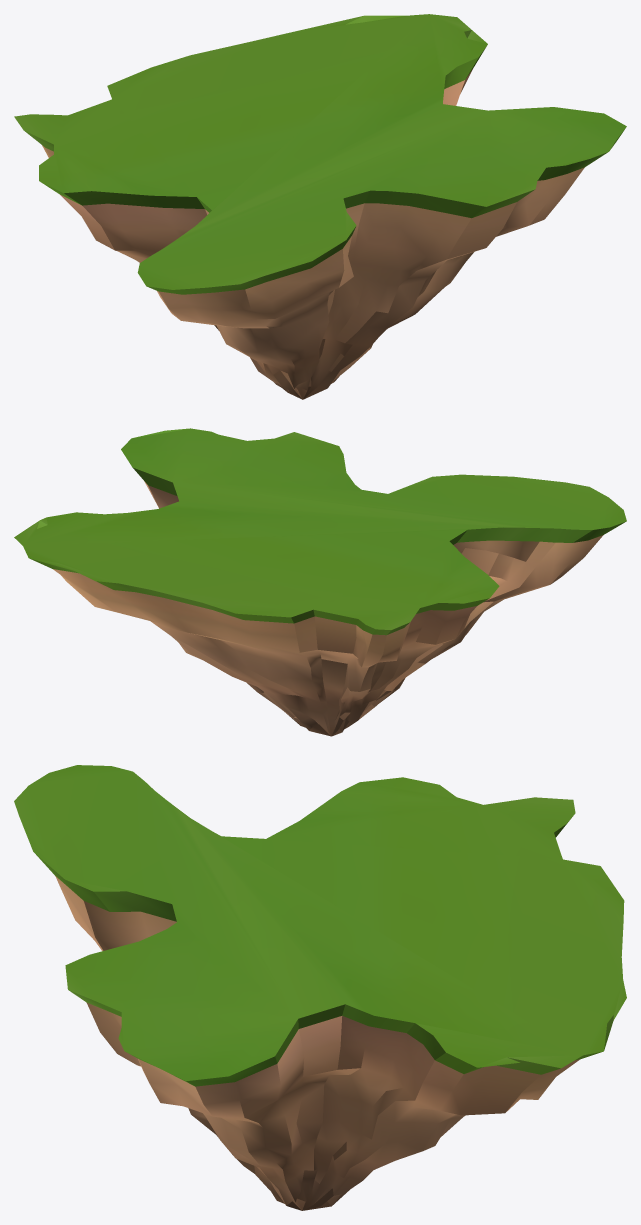
Rendered from asset.glb.
3 renders of one model, top to bottom at view 1: azimuth 30°, elevation 25°; view 2: azimuth 150°, elevation 25°; view 3: azimuth 270°, elevation 25°, orthographic. The views are drawn at different scales.
Visible parts, largest first — view 1: Vert.001, Vert; view 2: Vert.001, Vert; view 3: Vert.001, Vert.
Boxes of the visible parts, x1,y1,x2,y2 form: Vert.001: (14,14,626,294); Vert: (42,69,584,399); Vert.001: (14,428,626,635); Vert: (53,481,603,736); Vert.001: (14,765,626,1086); Vert: (55,876,579,1210).
Bounding box in the file's own units: 24.87 × 11.21 × 20.41.
1 material, 1 textured.
